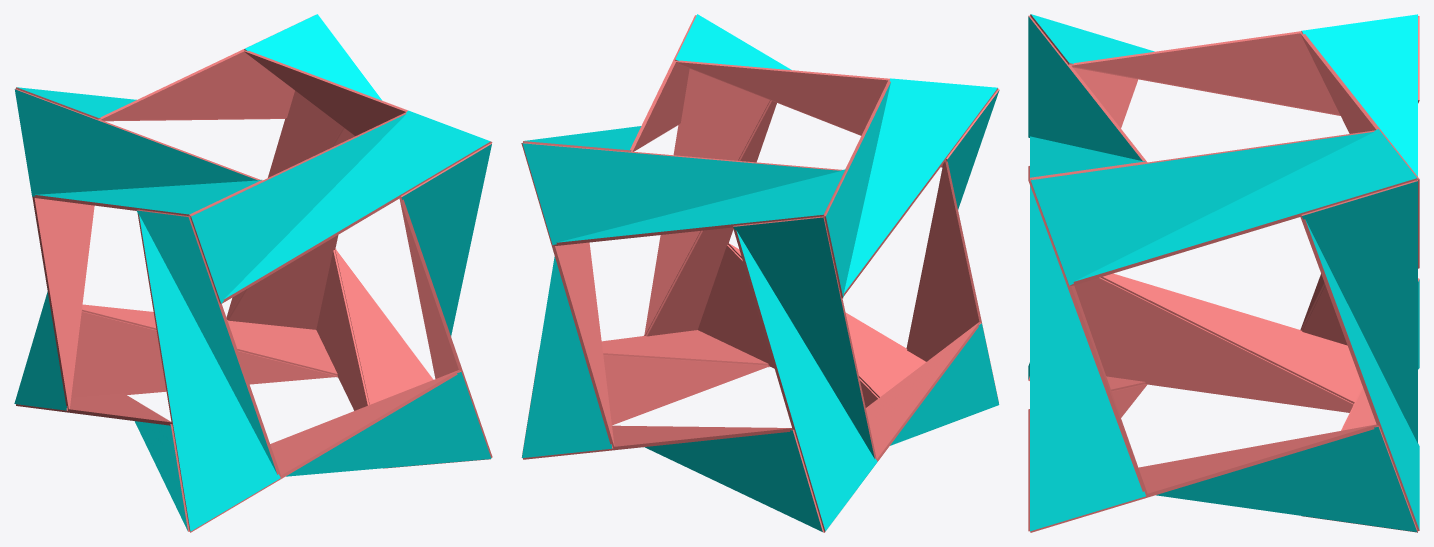
3 renders of one model, left to right at view 1: azimuth 30°, elevation 25°; view 2: azimuth 150°, elevation 25°; view 3: azimuth 270°, elevation 25°, orthographic. The views are drawn at different scales.
Parts seen in each view (by area): view 1: root; view 2: root; view 3: root.
Boxes of the visible parts, x1=… form: root: x1=14, y1=14, x2=492, y2=532; root: x1=521, y1=14, x2=999, y2=532; root: x1=1028, y1=14, x2=1419, y2=532.
Size of the model in its own units: 1.01 by 1.01 by 1.01.
